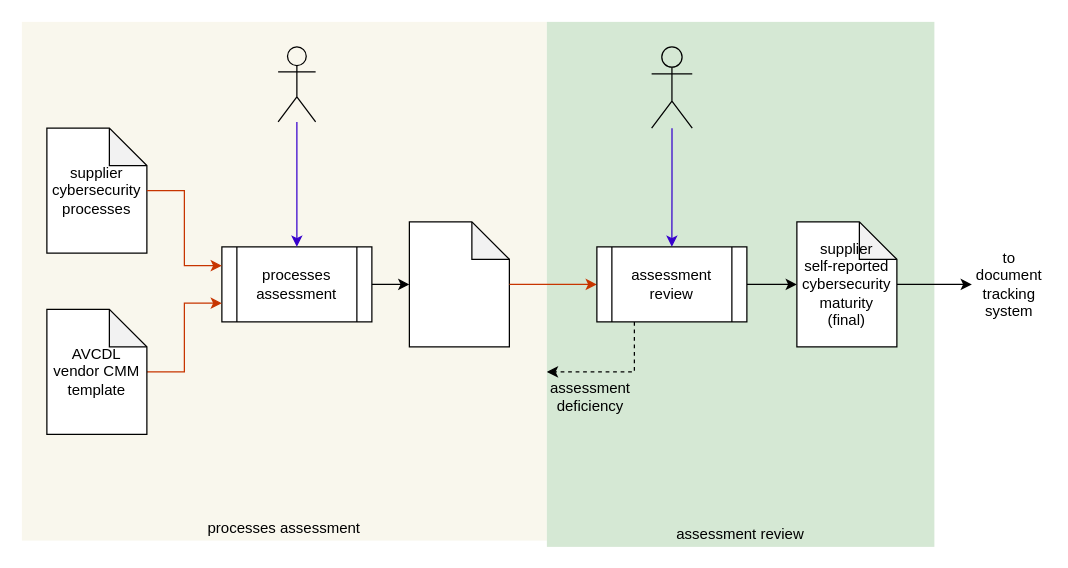
The diagram is 1068 pixels wide and 568 high, and some of its shapes have lost their labels. Each missing label, with the centre of its shape:
customer security SME: the point at 671,87
supplier security SME: the point at 296,84
supplier self-reported cybersecurity maturity (draft): the point at 458,284
